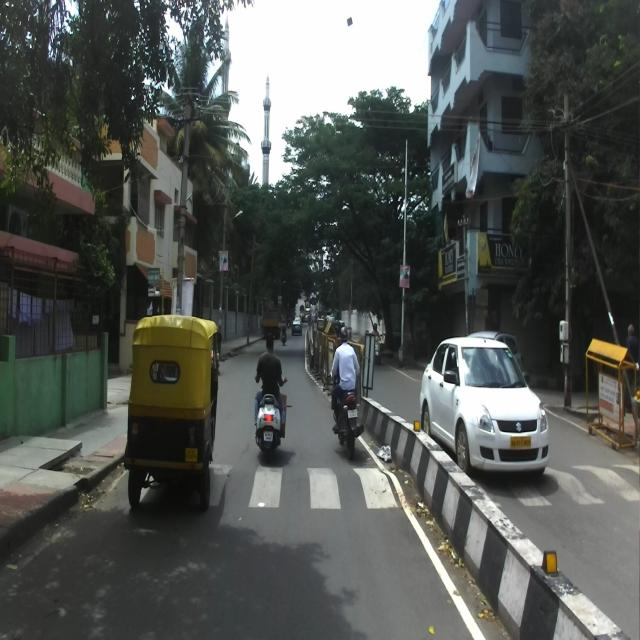autorickshaw: (123, 315, 221, 512)
car: (419, 335, 552, 482), (466, 330, 526, 385)
motorcycle: (326, 367, 367, 461)
scooter: (252, 374, 288, 462)
